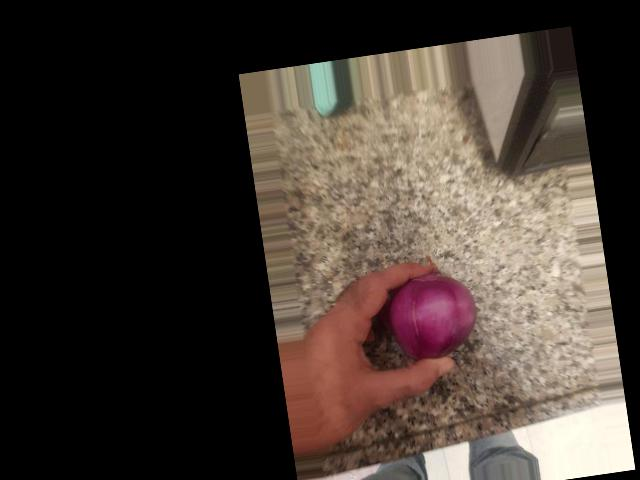onion: (473, 187, 569, 281)
